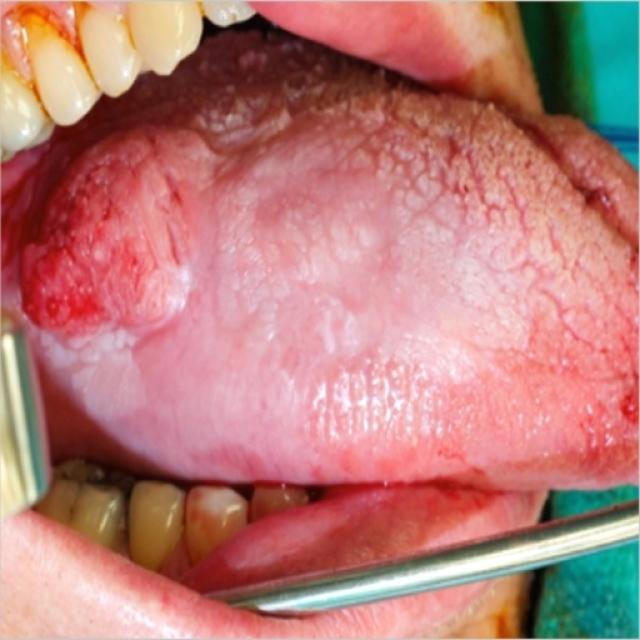cancer-detection: (11, 111, 232, 346)
processing_area: (3, 0, 639, 593)
